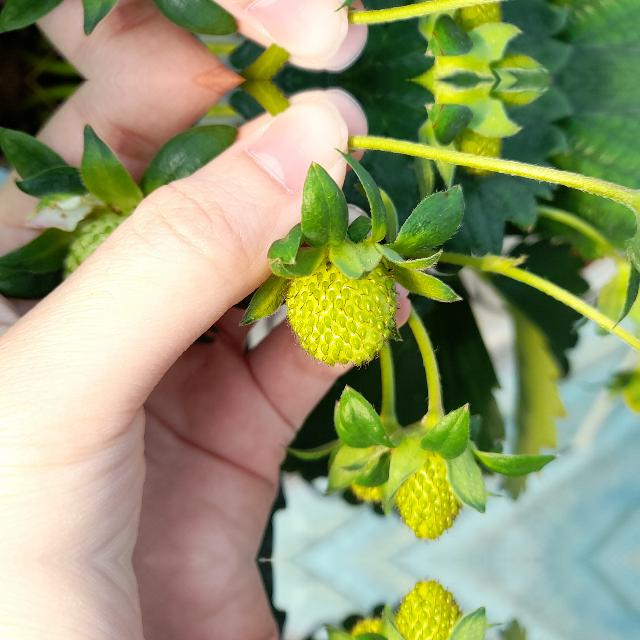Health_25: (282, 255, 400, 369), (402, 414, 470, 538), (402, 582, 470, 640)
